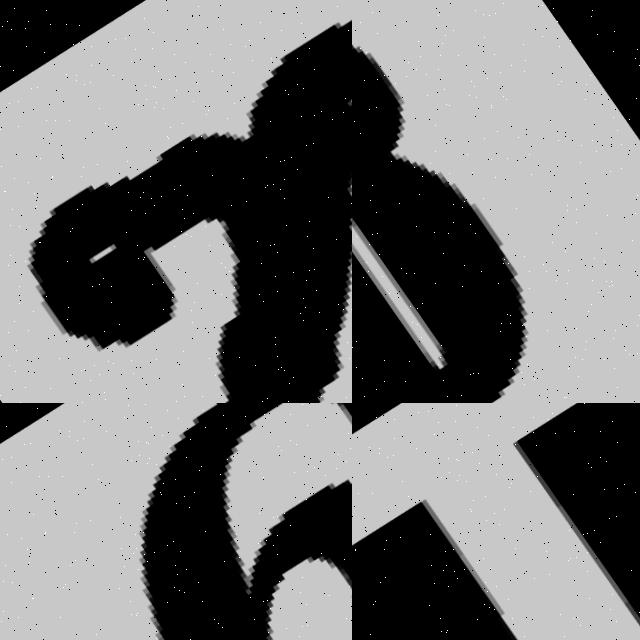G: (352, 0, 635, 403), (0, 403, 352, 640)
N: (352, 403, 640, 640)
Z: (0, 0, 352, 403)
